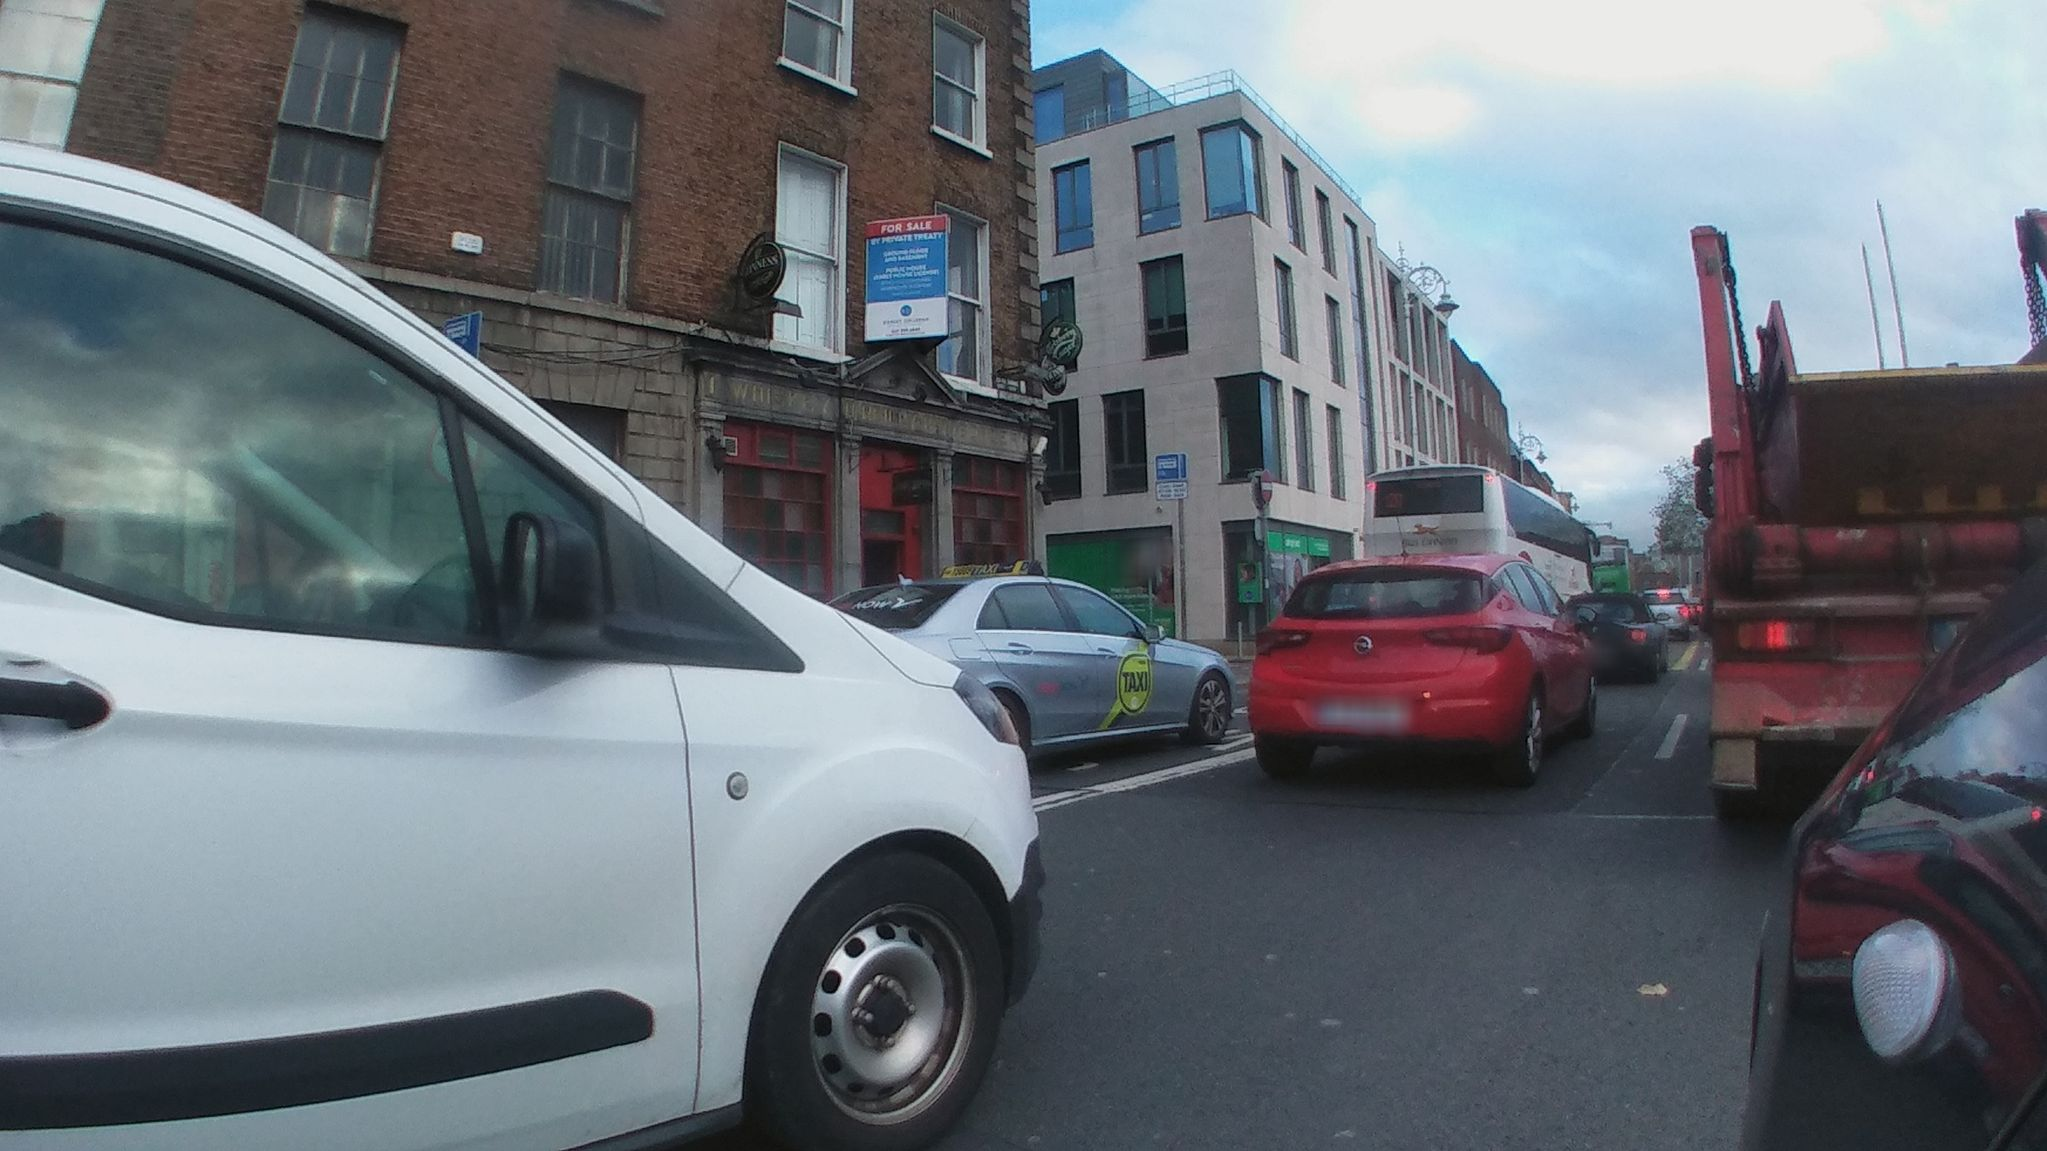property sign: (865, 208, 955, 347)
